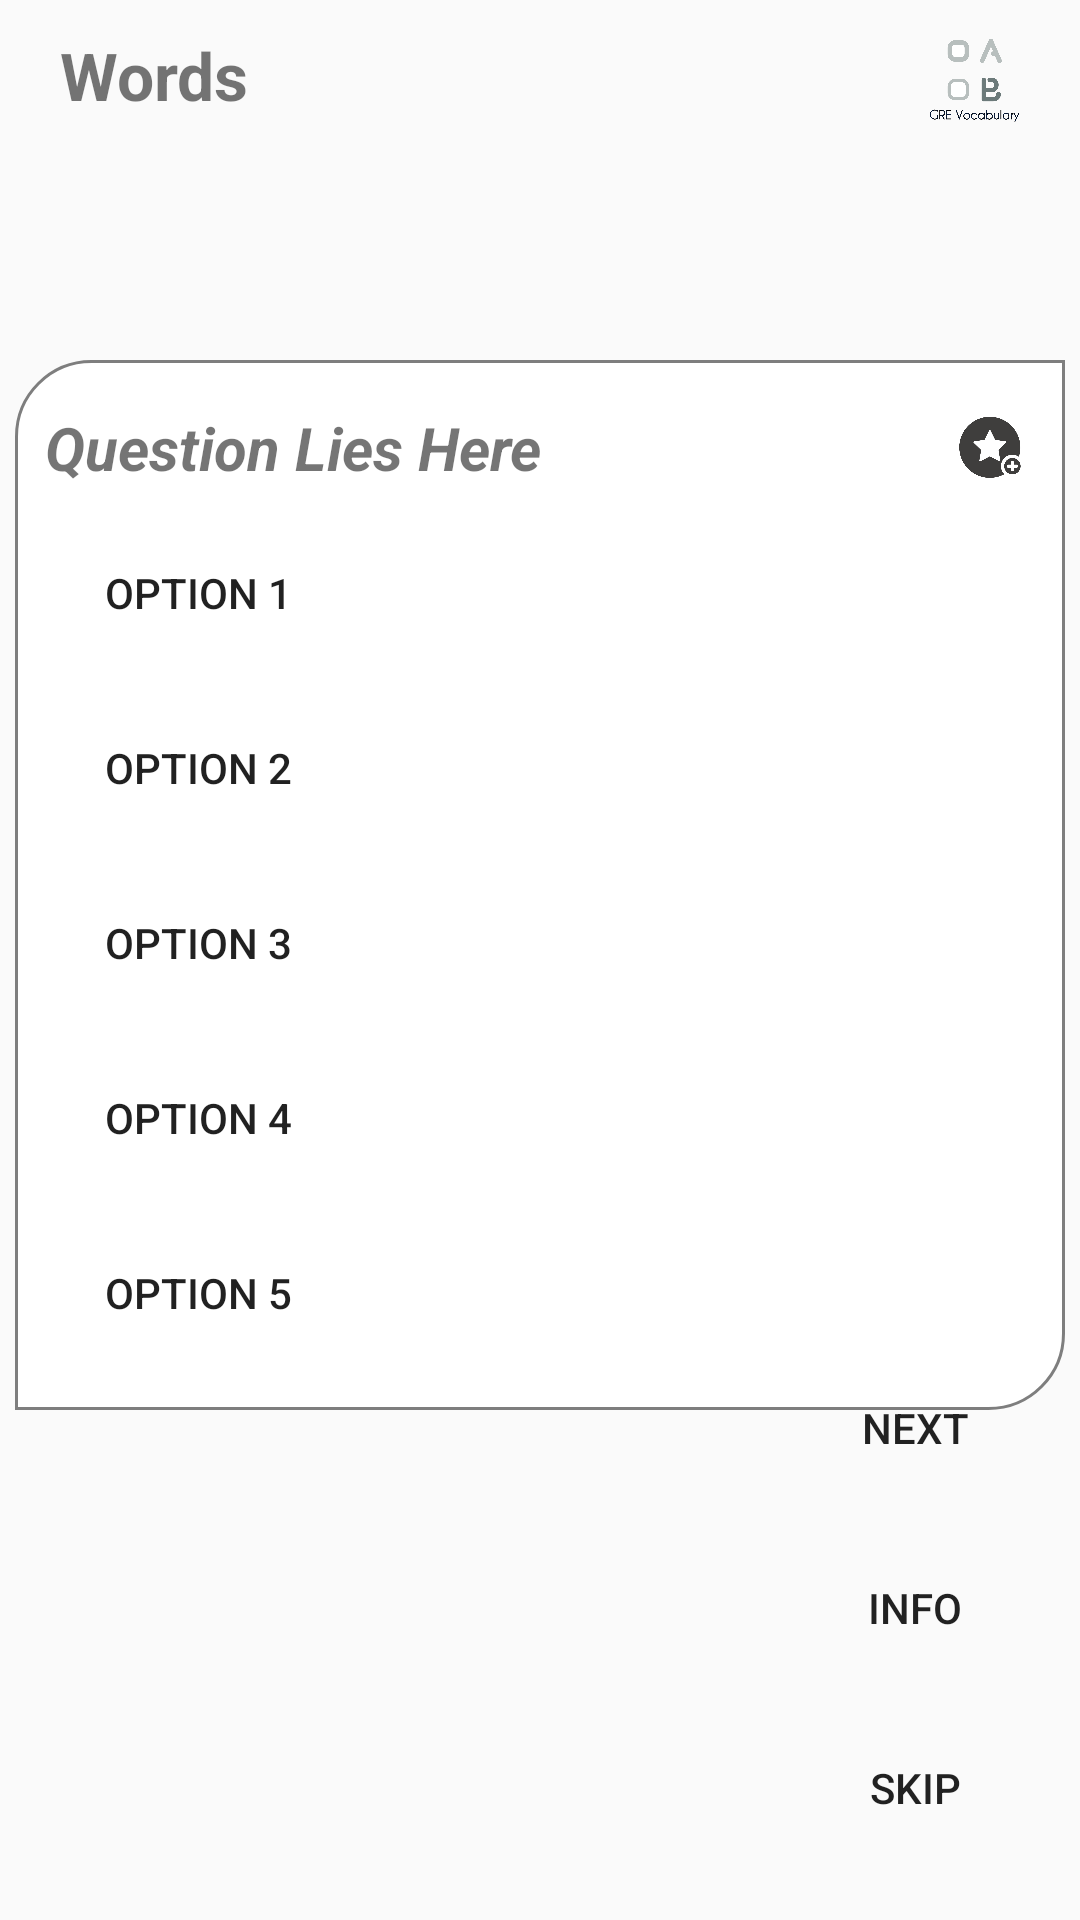

Icons on this 1080×1920 Android screen, each with the point to tap as point (x, y):
add bookmark: point (990, 447)
